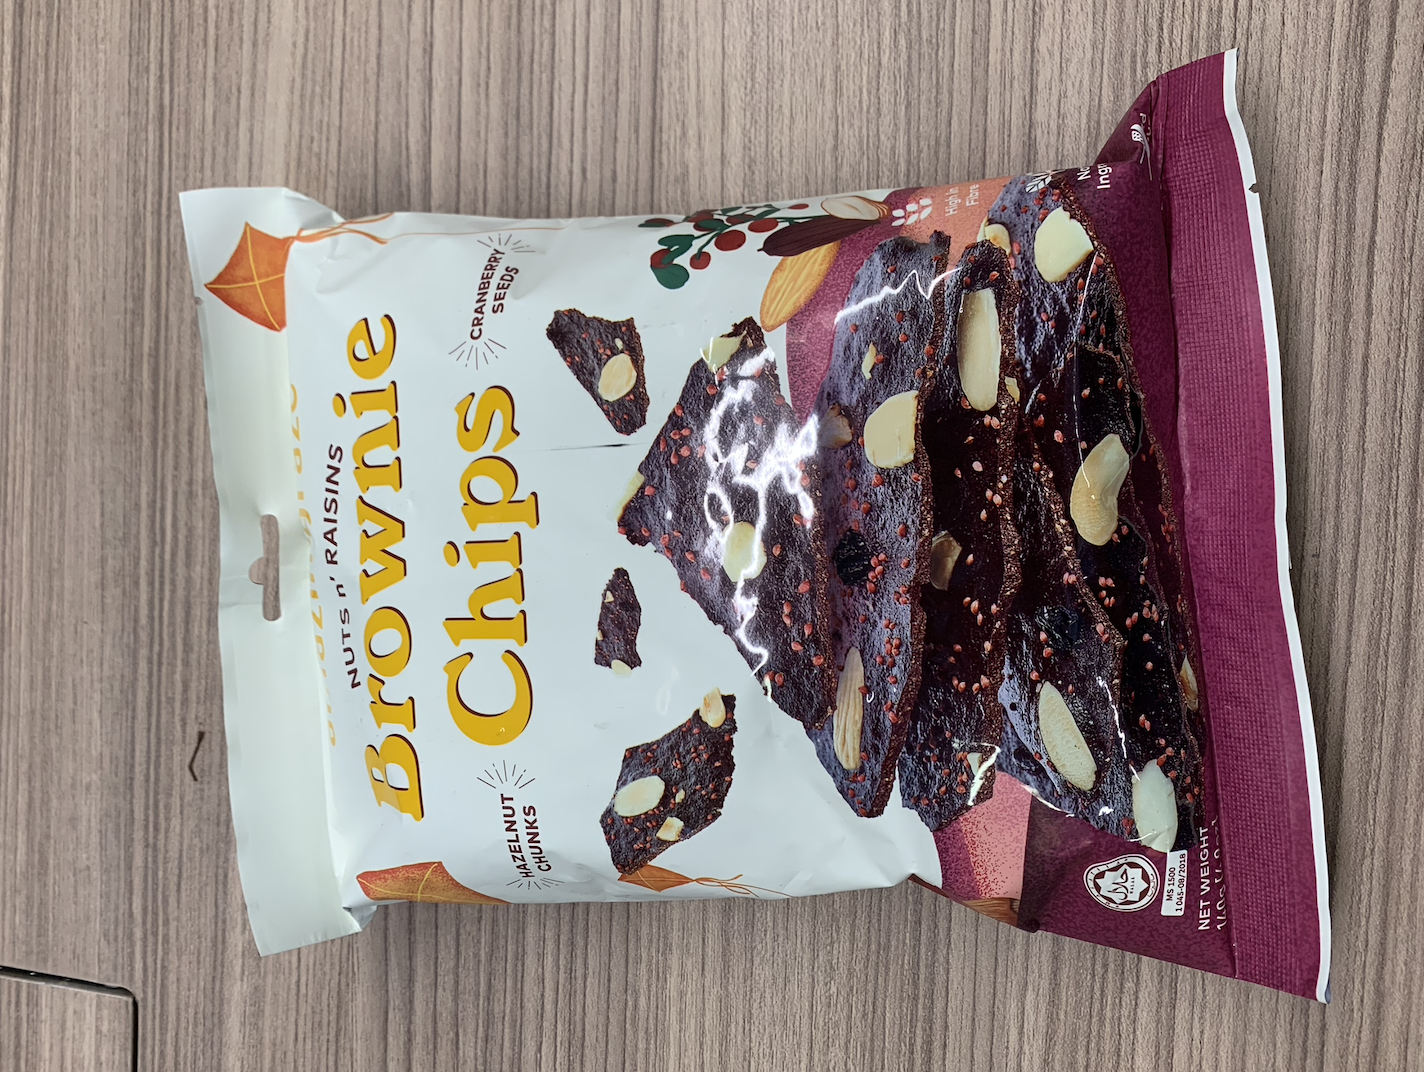crackers_150g: (271, 236, 1250, 918)
